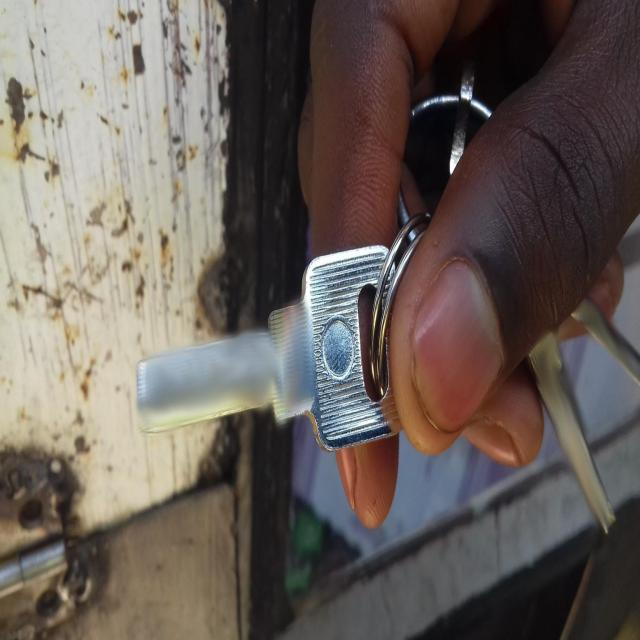Frontdoor keys: (134, 242, 403, 459)
